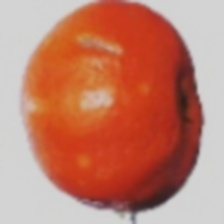tangerine: (13, 44, 204, 224)
